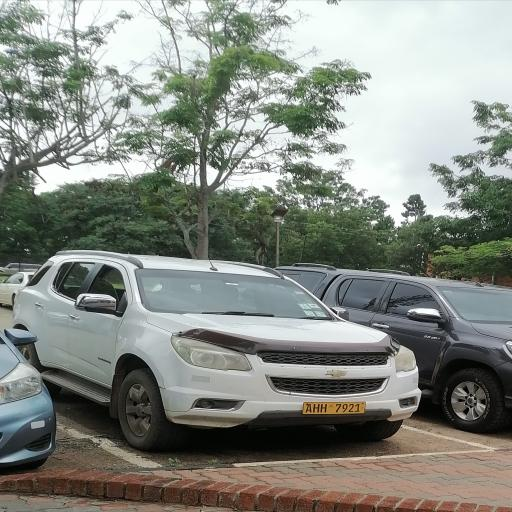number-plates: (300, 398, 371, 417)
